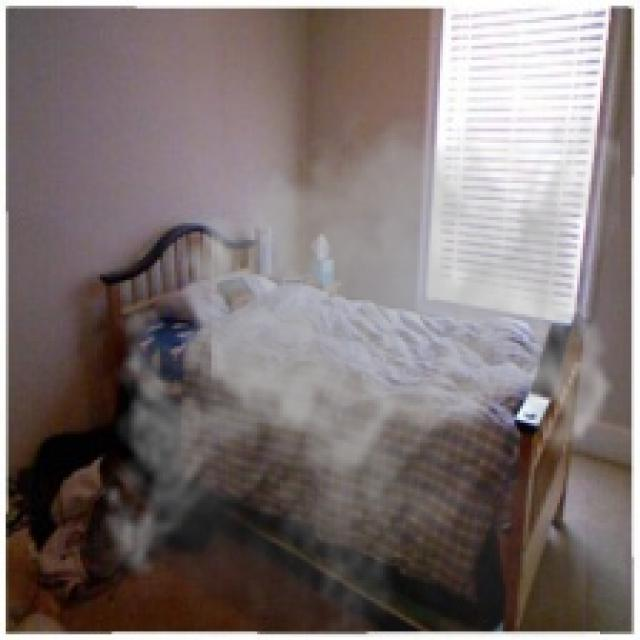smoke: (86, 97, 620, 637)
